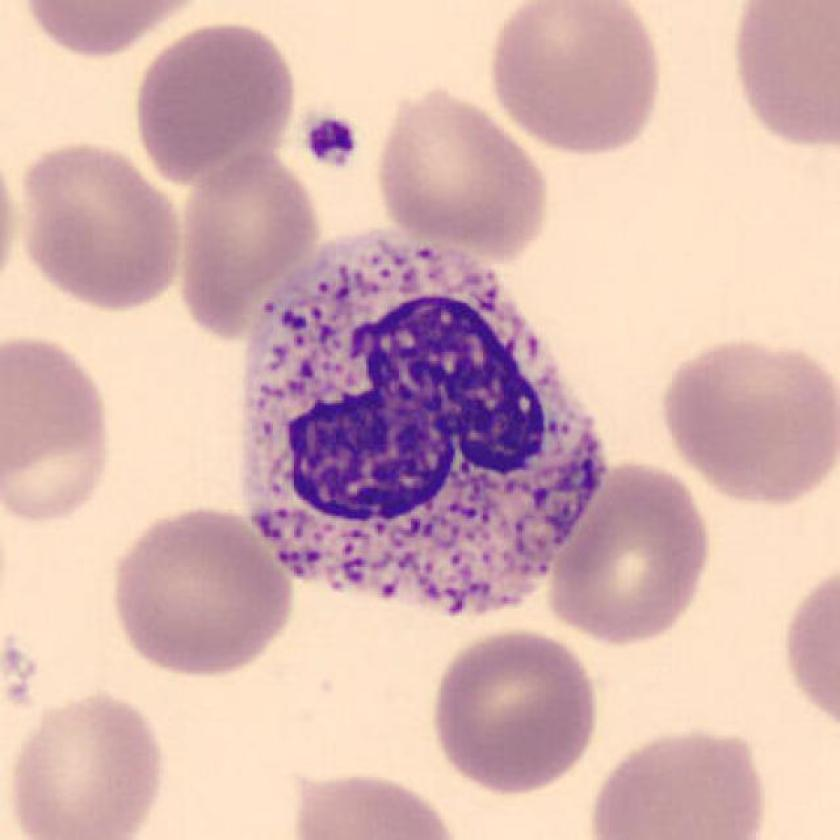neutrophil: (241, 240, 606, 616)
